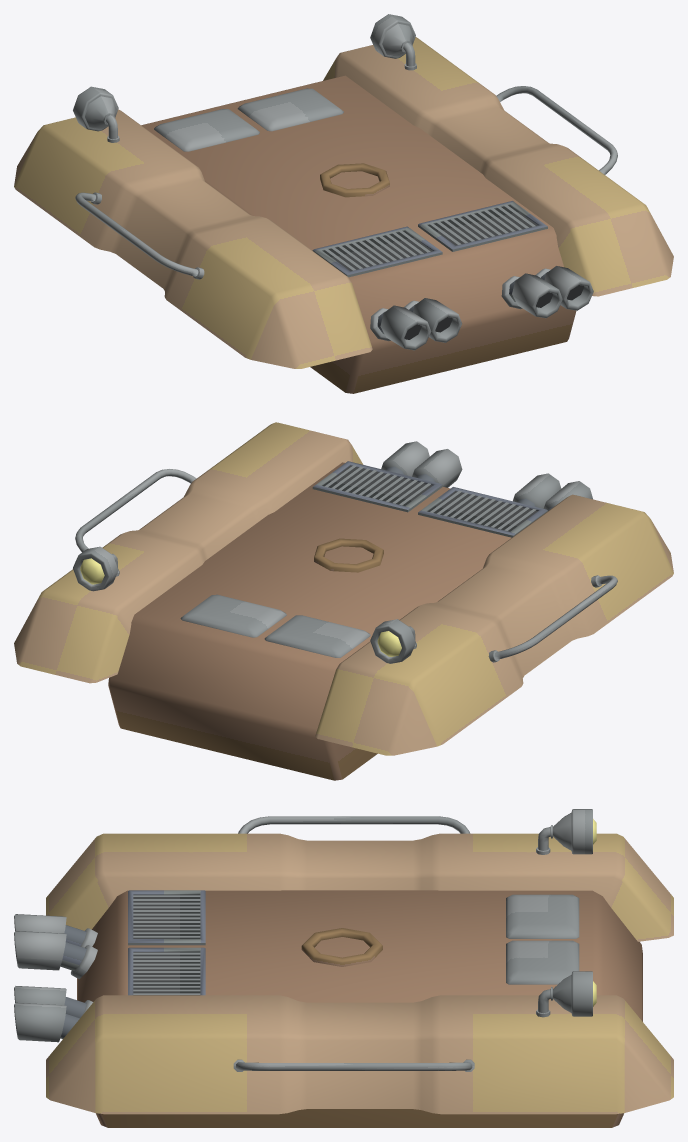
Rendered from ZUBR_BODY.fbx.
The picture shows the model from 3 angles, top to bottom: view 1: azimuth 30°, elevation 25°; view 2: azimuth 150°, elevation 25°; view 3: azimuth 270°, elevation 25°; orthographic projection. The views are drawn at different scales.
Parts seen in each view (by area): view 1: Desert_tank_zubr.013, Desert_tank_zubr.003, Desert_tank_zubr.008, Desert_tank_zubr.009, Desert_tank_zubr.012, Desert_tank_zubr.017, Desert_tank_zubr.007; view 2: Desert_tank_zubr.013, Desert_tank_zubr.003, Desert_tank_zubr.008, Desert_tank_zubr.012, Desert_tank_zubr.009, Desert_tank_zubr.007, Desert_tank_zubr.017, Desert_tank_zubr.010; view 3: Desert_tank_zubr.013, Desert_tank_zubr.003, Desert_tank_zubr.008, Desert_tank_zubr.009, Desert_tank_zubr.012, Desert_tank_zubr.007, Desert_tank_zubr.017.
Boxes of the visible parts, x1=… form: Desert_tank_zubr.013: x1=14, y1=37, x2=673, y2=368; Desert_tank_zubr.003: x1=141, y1=75, x2=576, y2=393; Desert_tank_zubr.008: x1=312, y1=201, x2=547, y2=277; Desert_tank_zubr.009: x1=370, y1=266, x2=593, y2=350; Desert_tank_zubr.012: x1=154, y1=88, x2=343, y2=151; Desert_tank_zubr.017: x1=73, y1=14, x2=416, y2=142; Desert_tank_zubr.007: x1=75, y1=86, x2=617, y2=279; Desert_tank_zubr.013: x1=14, y1=422, x2=673, y2=755; Desert_tank_zubr.003: x1=108, y1=462, x2=511, y2=780; Desert_tank_zubr.008: x1=312, y1=461, x2=547, y2=537; Desert_tank_zubr.012: x1=180, y1=594, x2=370, y2=657; Desert_tank_zubr.009: x1=381, y1=441, x2=592, y2=510; Desert_tank_zubr.007: x1=75, y1=469, x2=617, y2=662; Desert_tank_zubr.017: x1=73, y1=546, x2=416, y2=663; Desert_tank_zubr.010: x1=80, y1=558, x2=401, y2=656; Desert_tank_zubr.013: x1=46, y1=833, x2=673, y2=1114; Desert_tank_zubr.003: x1=77, y1=890, x2=642, y2=1127; Desert_tank_zubr.008: x1=128, y1=890, x2=205, y2=995; Desert_tank_zubr.009: x1=14, y1=914, x2=97, y2=1042; Desert_tank_zubr.012: x1=506, y1=894, x2=579, y2=984; Desert_tank_zubr.007: x1=233, y1=816, x2=474, y2=1071; Desert_tank_zubr.017: x1=536, y1=809, x2=592, y2=1017.
Bounding box in the file's own units: 296 × 96.91 × 330.
